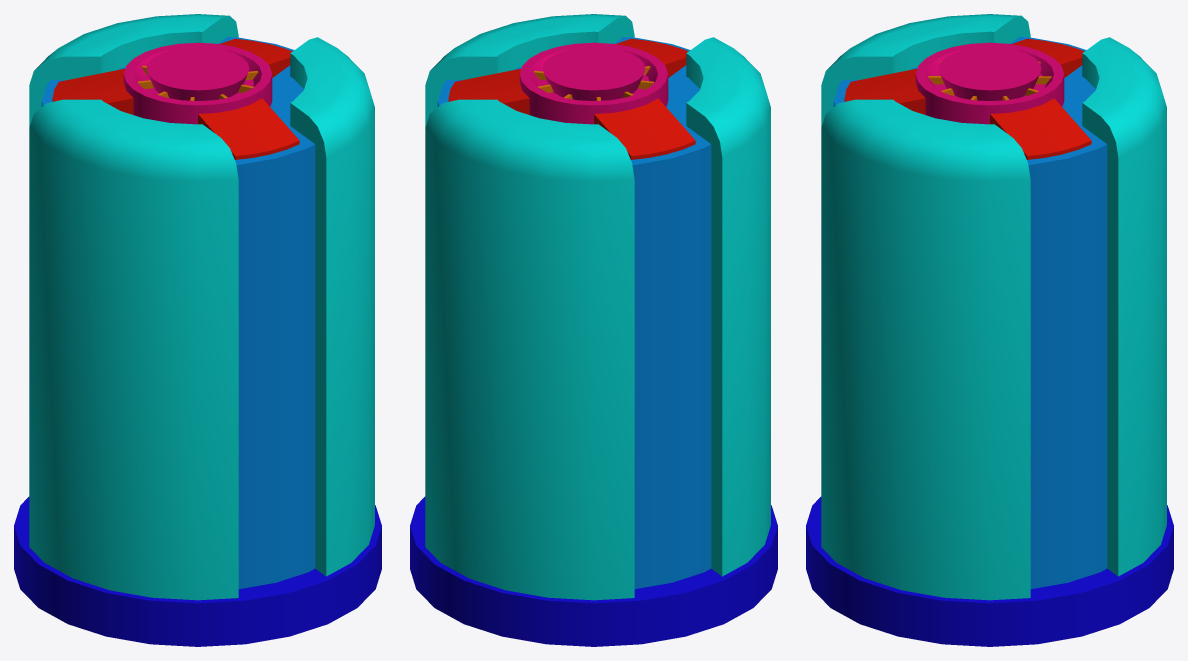
Rendered from cooler.glb.
3 views of the same model, side by side, from view 1: azimuth 30°, elevation 25°; view 2: azimuth 150°, elevation 25°; view 3: azimuth 270°, elevation 25° (orthographic).
Visible parts, largest first — view 1: Cylinder.002, Cylinder.001, Cylinder.005, Cylinder.006, Cylinder.004, Cylinder.007, Cylinder.008; view 2: Cylinder.002, Cylinder.001, Cylinder.005, Cylinder.006, Cylinder.007, Cylinder.008, Cylinder.004; view 3: Cylinder.002, Cylinder.001, Cylinder.005, Cylinder.006, Cylinder.008, Cylinder.004, Cylinder.007.
Boxes of the visible parts, x1,y1,x2,y2 form: Cylinder.002: [29, 14, 374, 600]; Cylinder.001: [41, 37, 315, 589]; Cylinder.005: [14, 496, 381, 646]; Cylinder.006: [123, 42, 272, 124]; Cylinder.004: [198, 98, 299, 159]; Cylinder.007: [52, 68, 133, 114]; Cylinder.008: [219, 38, 292, 77]; Cylinder.002: [425, 14, 770, 600]; Cylinder.001: [437, 37, 711, 589]; Cylinder.005: [410, 496, 777, 646]; Cylinder.006: [519, 42, 668, 124]; Cylinder.007: [594, 98, 695, 159]; Cylinder.008: [448, 68, 529, 114]; Cylinder.004: [615, 38, 688, 77]; Cylinder.002: [821, 14, 1166, 600]; Cylinder.001: [833, 37, 1107, 589]; Cylinder.005: [806, 496, 1173, 646]; Cylinder.006: [915, 42, 1064, 124]; Cylinder.008: [990, 98, 1091, 159]; Cylinder.004: [844, 68, 925, 114]; Cylinder.007: [1011, 38, 1084, 77].
Bounding box in the file's own units: 1.96 × 2.95 × 1.96.
